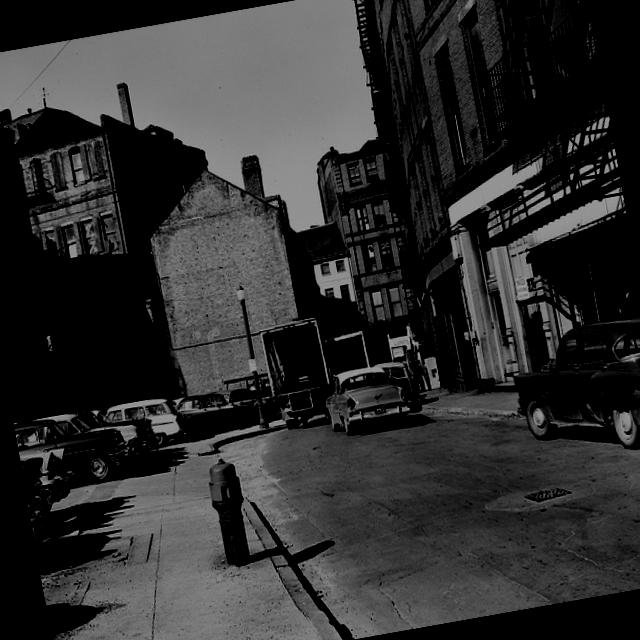Vehicle: (503, 313, 640, 465), (13, 406, 134, 496), (29, 402, 132, 480), (258, 320, 334, 424), (320, 360, 412, 436), (102, 394, 188, 452), (174, 386, 258, 441), (20, 455, 61, 532), (19, 449, 76, 502), (334, 325, 390, 372), (374, 358, 420, 410), (210, 384, 261, 425), (222, 372, 272, 404), (67, 408, 102, 432), (90, 406, 111, 429)
